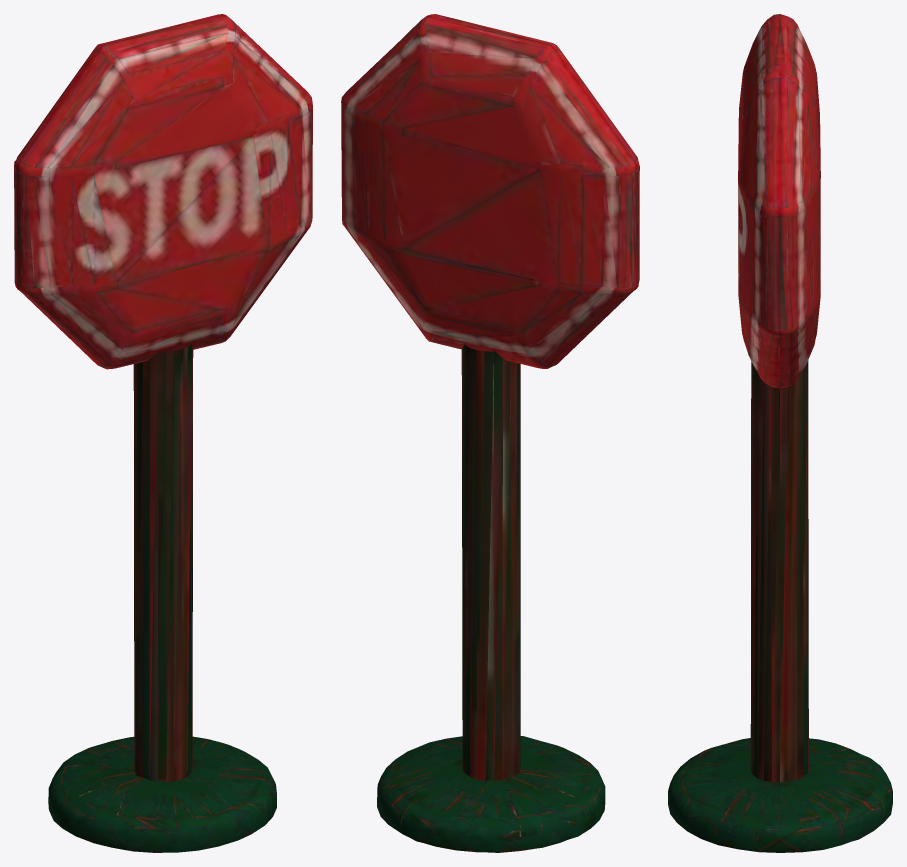
Rendered from stop-sign.glb.
3 views of the same model, side by side, from view 1: azimuth 30°, elevation 25°; view 2: azimuth 150°, elevation 25°; view 3: azimuth 270°, elevation 25° (orthographic).
Parts seen in each view (by area): view 1: geometry_0; view 2: geometry_0; view 3: geometry_0.
Part boxes in pixels (bbox=[...]): geometry_0: bbox=[14, 14, 312, 852]; geometry_0: bbox=[341, 14, 639, 852]; geometry_0: bbox=[668, 14, 892, 852].
Size of the model in its own units: 0.3953 by 1 by 0.2669.
1 material, 1 textured.
